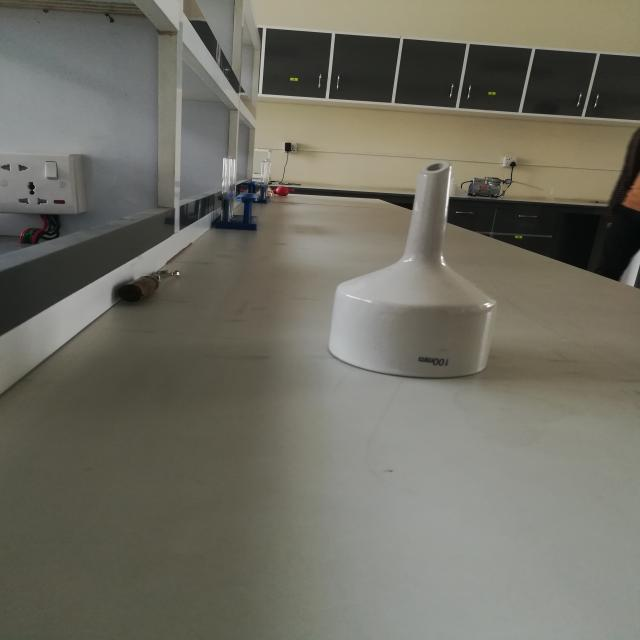Buchner_Funnel: (286, 135, 544, 416)
